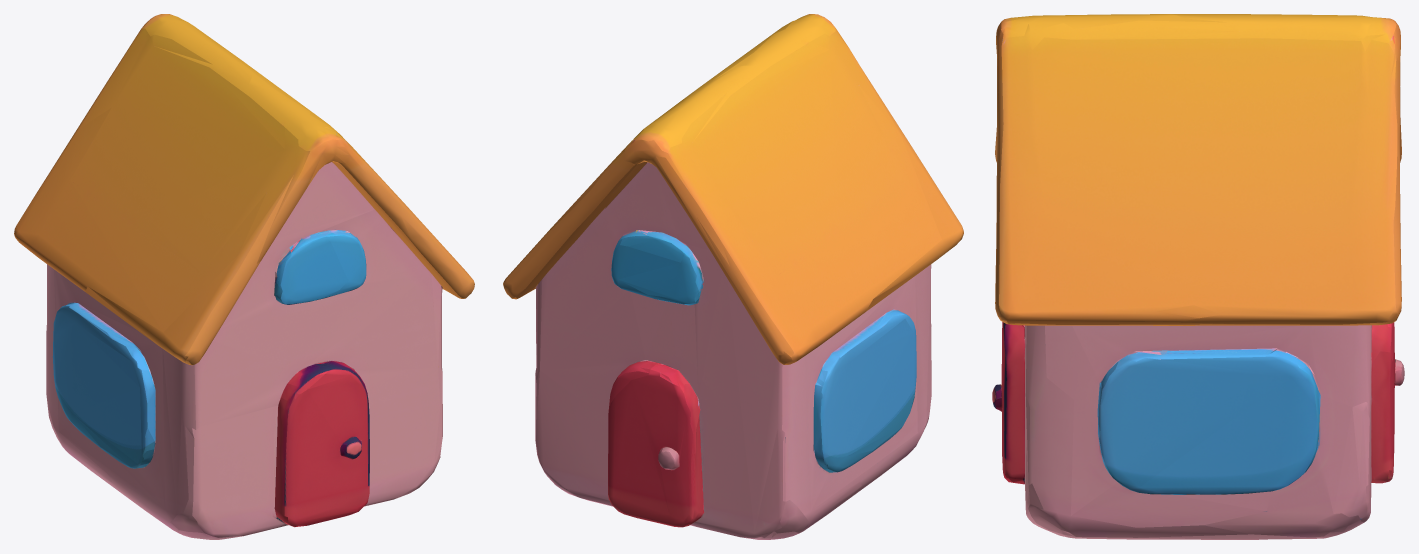
Rendered from prop_house.glb.
3 renders of one model, left to right at view 1: azimuth 30°, elevation 25°; view 2: azimuth 150°, elevation 25°; view 3: azimuth 270°, elevation 25°, orthographic. The views are drawn at different scales.
Bounding box in the file's own units: 1.48 × 1.9 × 1.54.
Materials: 1 (1 with a texture image).
